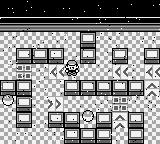main: (65, 60, 79, 75)
no-caminable: (0, 1, 159, 17), (0, 18, 159, 32), (49, 112, 111, 143), (1, 80, 31, 128), (65, 81, 143, 95), (17, 49, 63, 63), (80, 32, 96, 63), (129, 112, 143, 143), (113, 48, 127, 63), (145, 49, 159, 63)
poke-ball: (2, 94, 14, 105), (82, 111, 94, 121)
salto: (112, 112, 128, 129), (144, 81, 159, 96), (48, 96, 63, 111), (50, 65, 65, 79), (114, 65, 128, 79), (146, 65, 159, 79)
